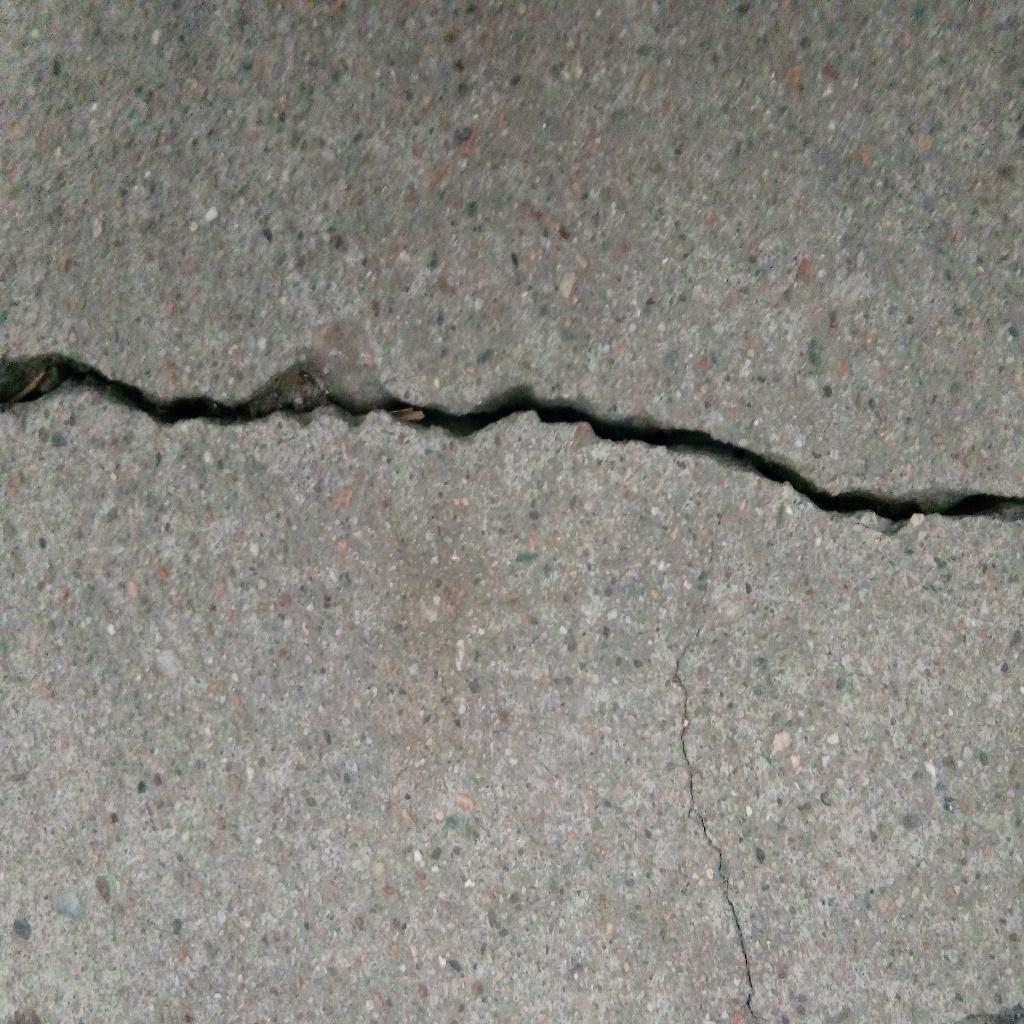Crack: (1, 354, 1024, 533), (668, 634, 758, 1024)
